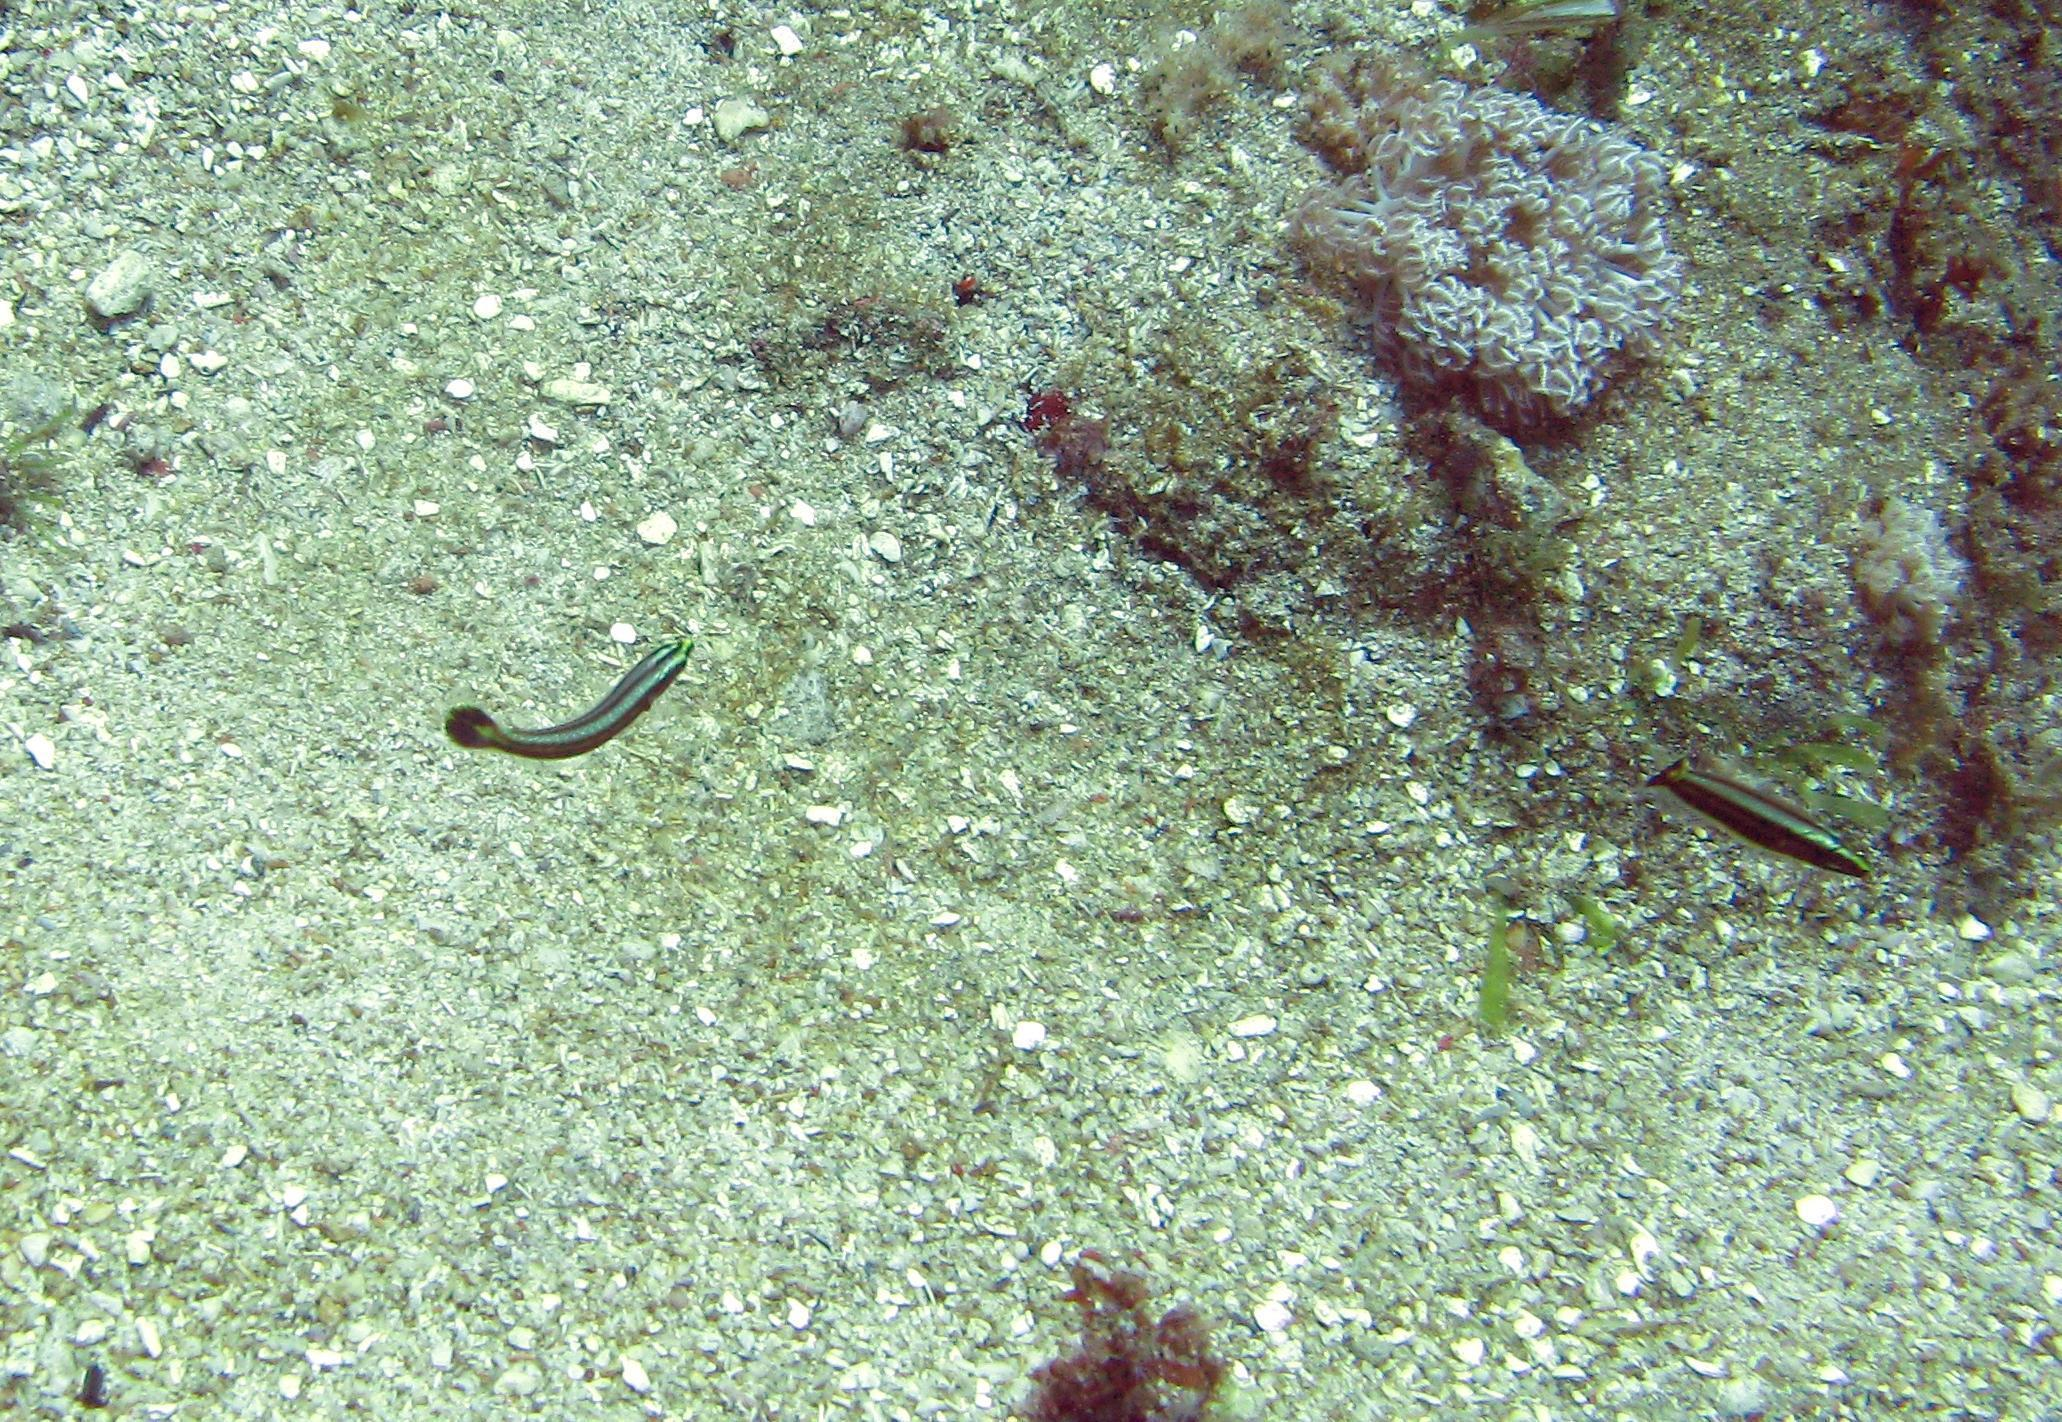Fish: (400, 606, 733, 785), (1633, 717, 1894, 922)
